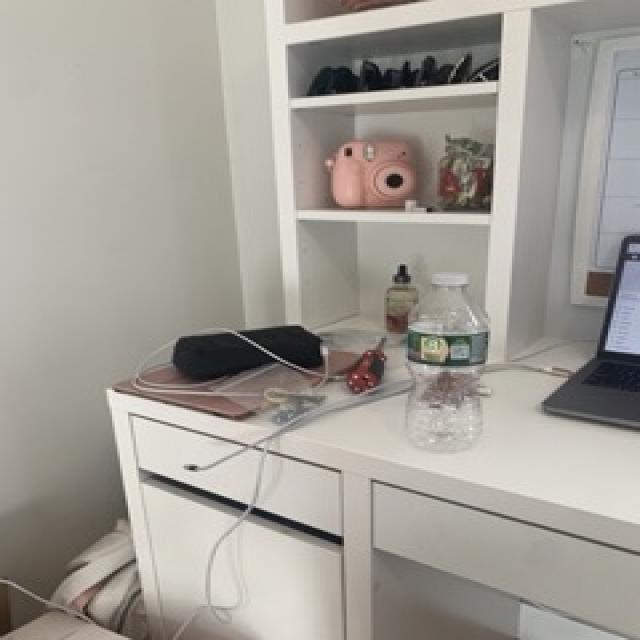water_bottle: (397, 270, 492, 455)
